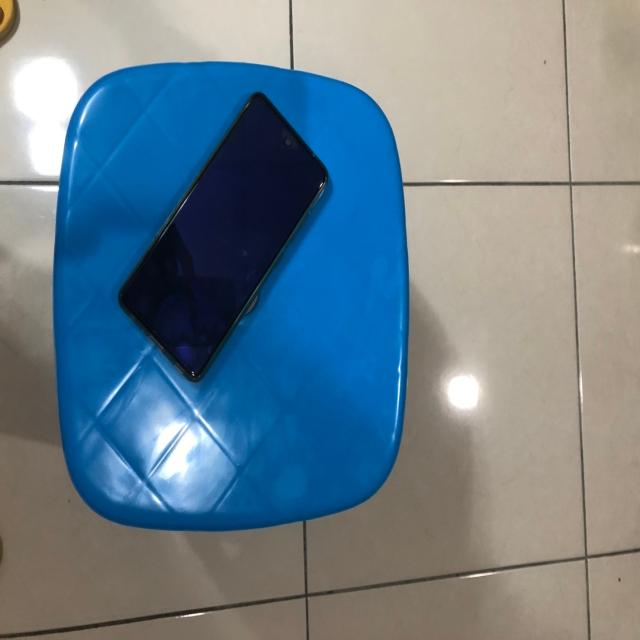phone: (100, 60, 351, 417)
